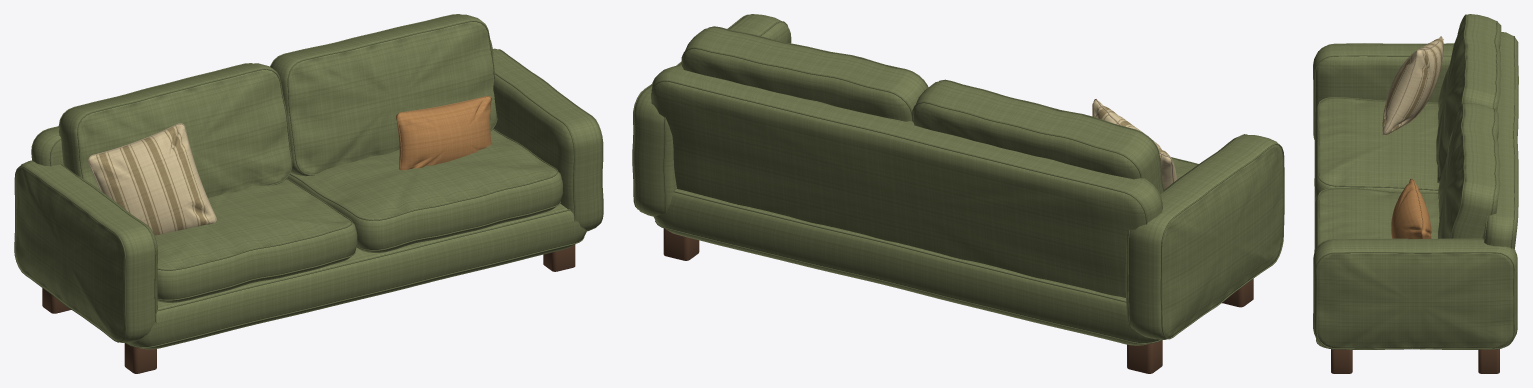
3 renders of one model, left to right at view 1: azimuth 30°, elevation 25°; view 2: azimuth 150°, elevation 25°; view 3: azimuth 270°, elevation 25°, orthographic. The views are drawn at different scales.
Parts seen in each view (by area): view 1: sample-sofa; view 2: sample-sofa; view 3: sample-sofa.
Boxes of the visible parts, x1=… form: sample-sofa: x1=14, y1=14, x2=603, y2=373; sample-sofa: x1=632, y1=14, x2=1284, y2=373; sample-sofa: x1=1313, y1=14, x2=1518, y2=373.
Size of the model in its own units: 2.19 by 0.8694 by 0.8927.
7 materials, 3 textured.
